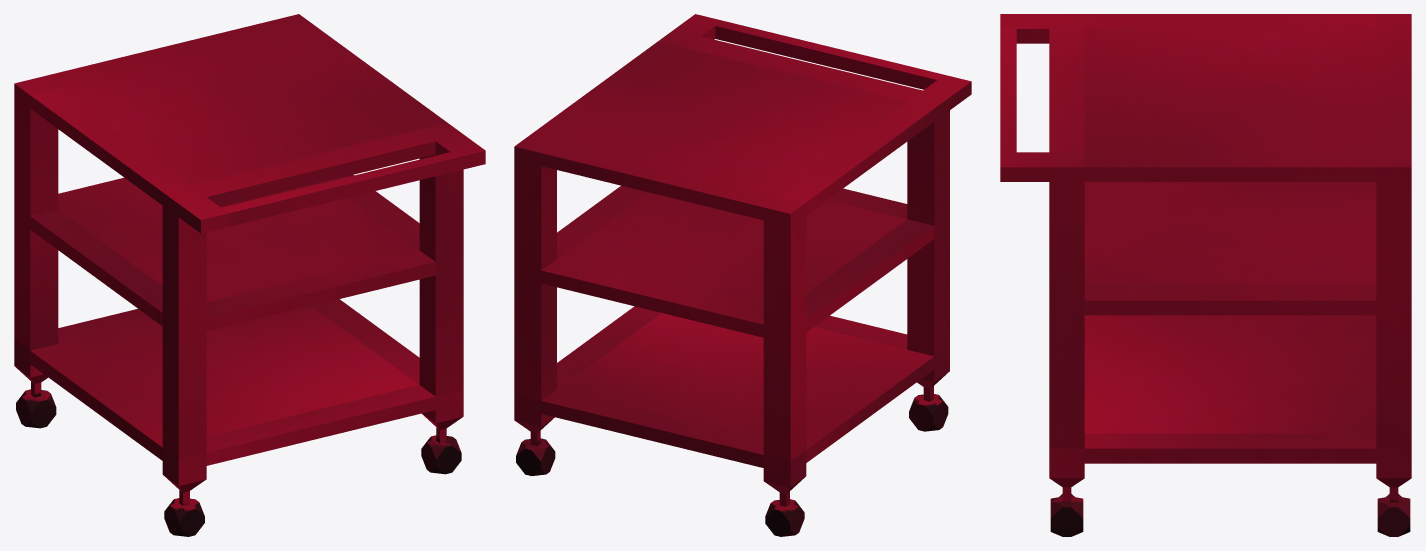
The model's file is Cart.fbx.
The picture shows the model from 3 angles, left to right: view 1: azimuth 30°, elevation 25°; view 2: azimuth 150°, elevation 25°; view 3: azimuth 270°, elevation 25°; orthographic projection. The views are drawn at different scales.
Visible parts, largest first — view 1: Cube; view 2: Cube; view 3: Cube.
Part boxes in pixels (left/top/right/bottom): Cube: left=14, top=14, right=485, bottom=536; Cube: left=514, top=14, right=971, bottom=536; Cube: left=1000, top=14, right=1411, bottom=536.
Bounding box in the file's own units: 2217 × 2500 × 2517.
Materials: 4 (4 with a texture image).
